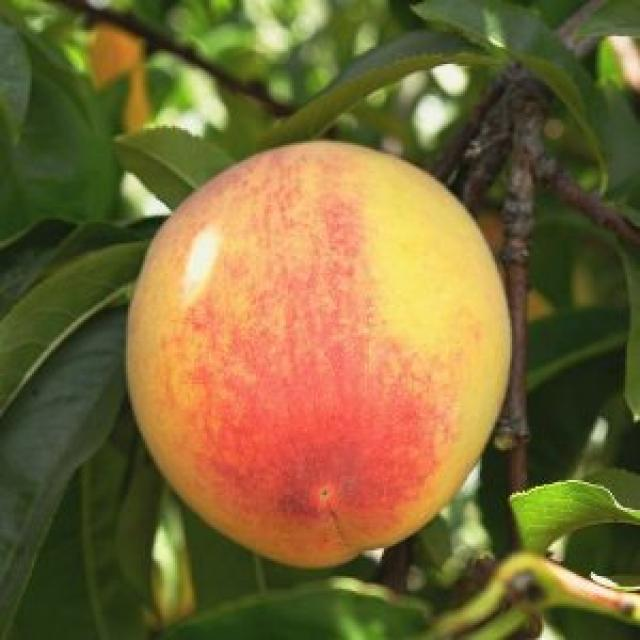Peach: (66, 0, 602, 577)
